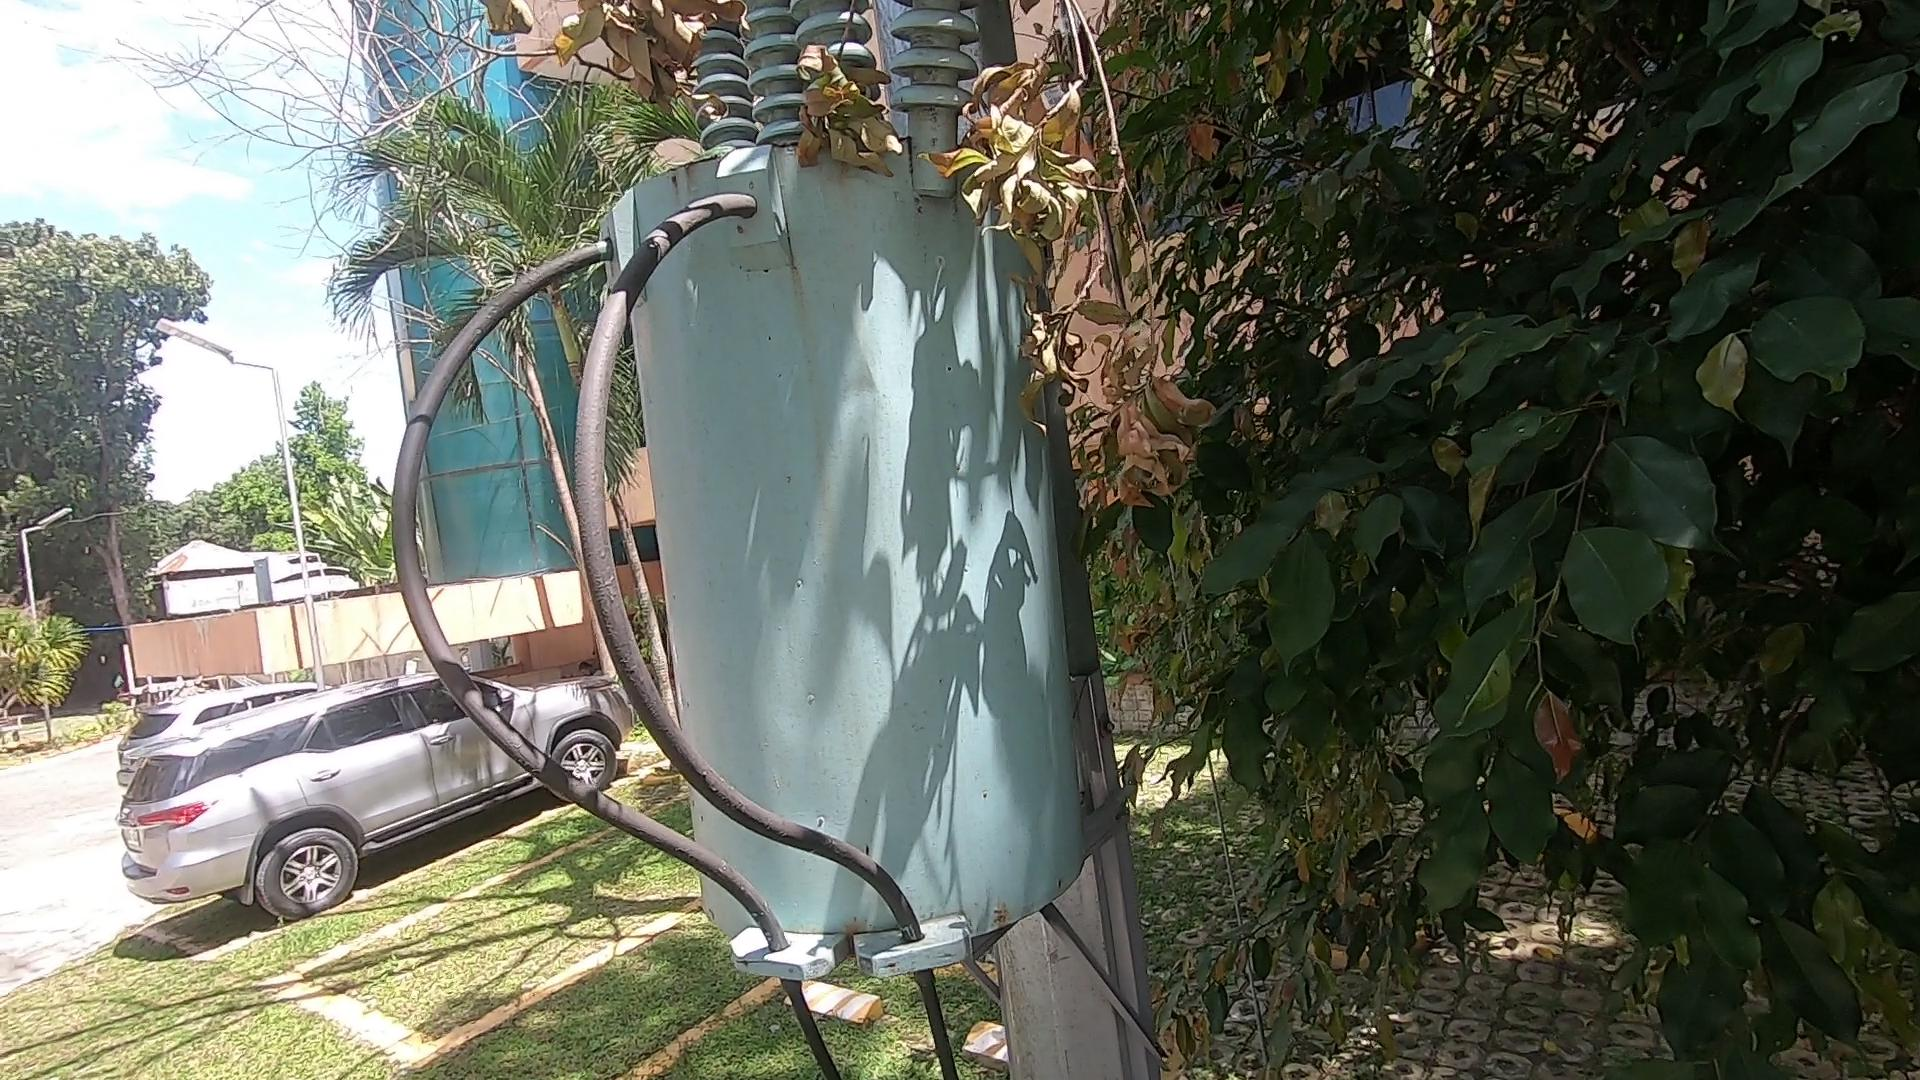branch with leaves: (963, 1, 1212, 549), (475, 1, 781, 119), (793, 7, 897, 193)
leaf: (647, 135, 728, 171)
